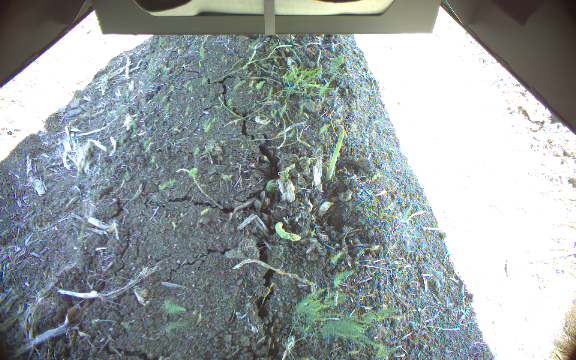aspa: (325, 124, 346, 181), (273, 219, 301, 243)
